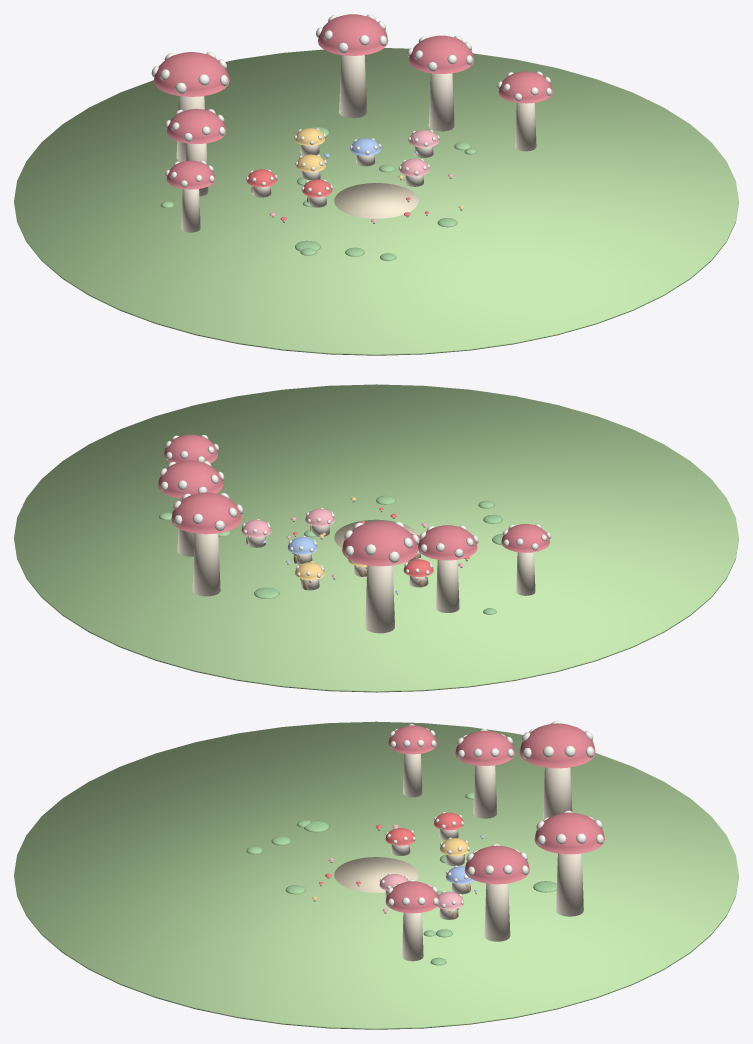
File: town.glb
The picture shows the model from 3 angles, top to bottom: view 1: azimuth 30°, elevation 25°; view 2: azimuth 150°, elevation 25°; view 3: azimuth 270°, elevation 25°; orthographic projection.
Visible parts, largest first — view 1: Town; view 2: Town; view 3: Town.
Part boxes in pixels (x1,y1,x2,y2): Town: [14, 14, 738, 355]; Town: [14, 384, 738, 692]; Town: [14, 721, 738, 1029].
Size of the model in its own units: 120 by 18.91 by 120.
